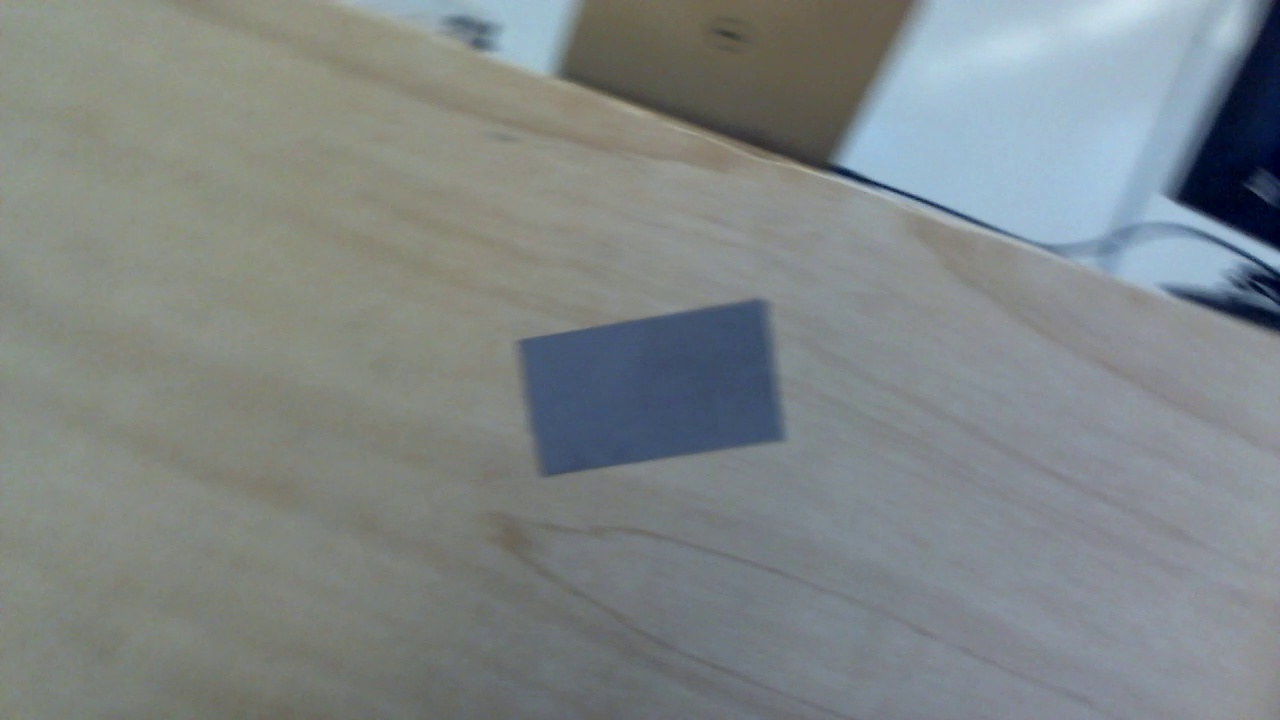Tape: (518, 298, 786, 478)
